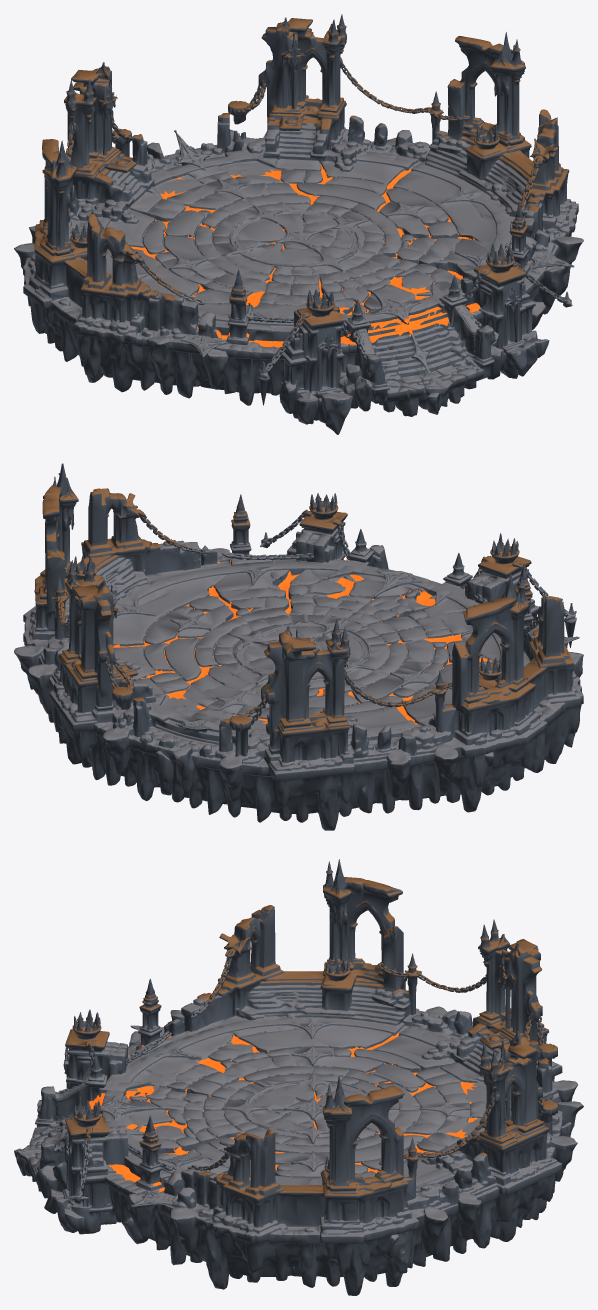
The model's file is Arena1.fbx.
3 renders of one model, top to bottom at view 1: azimuth 30°, elevation 25°; view 2: azimuth 150°, elevation 25°; view 3: azimuth 270°, elevation 25°, orthographic.
Visible parts, largest first — view 1: Arena1; view 2: Arena1; view 3: Arena1.
Boxes of the visible parts, box(x1,y1,x2,y2) form: Arena1: box(14, 14, 583, 434); Arena1: box(14, 463, 583, 830); Arena1: box(14, 859, 583, 1295).
Bounding box in the file's own units: 2600 × 2564 × 1084.
